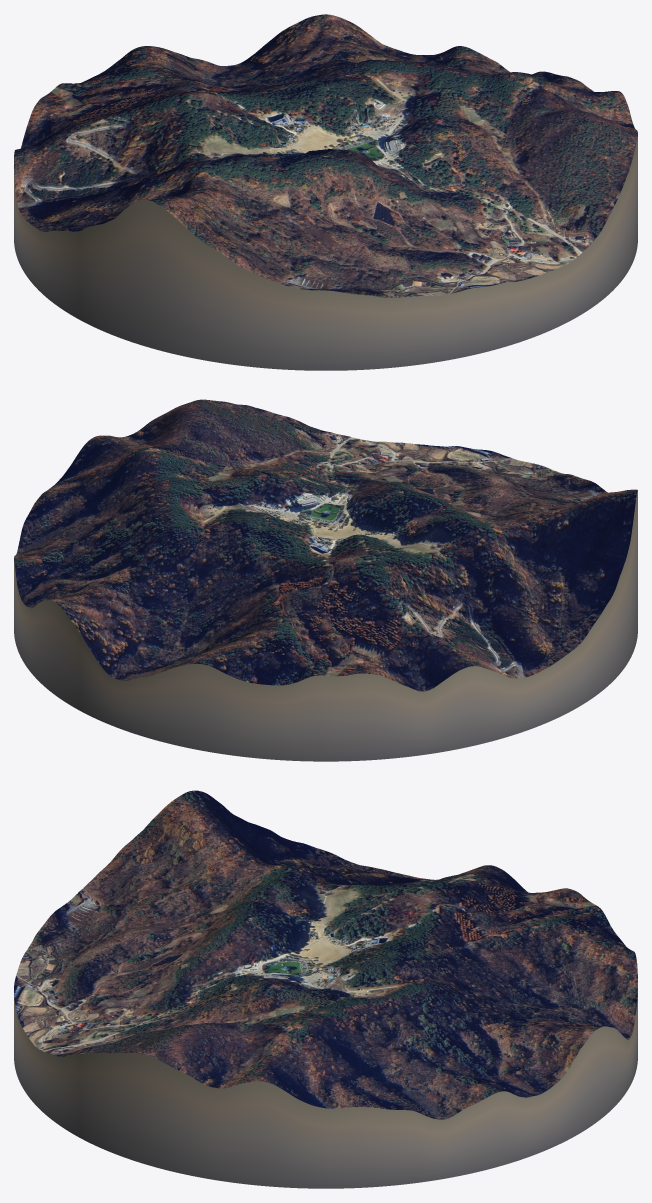
File: wolmyeongdong_600m.glb
The picture shows the model from 3 angles, top to bottom: view 1: azimuth 30°, elevation 25°; view 2: azimuth 150°, elevation 25°; view 3: azimuth 270°, elevation 25°; orthographic projection.
Visible parts, largest first — view 1: TerrainDiorama; view 2: TerrainDiorama; view 3: TerrainDiorama.
Boxes of the visible parts, x1=… form: TerrainDiorama: x1=14, y1=14, x2=637, y2=370; TerrainDiorama: x1=14, y1=399, x2=637, y2=761; TerrainDiorama: x1=14, y1=790, x2=637, y2=1188.
Bounding box in the file's own units: 76 × 19.78 × 76.
Materials: 2 (1 with a texture image).
